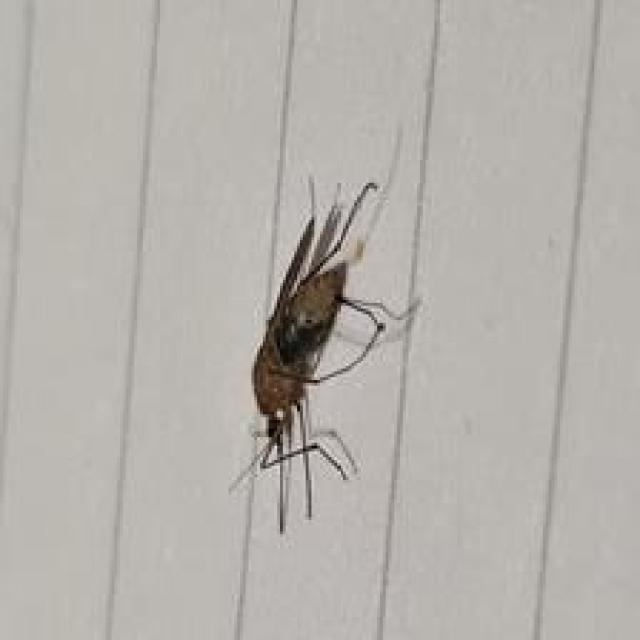Culex: (227, 175, 393, 534)
